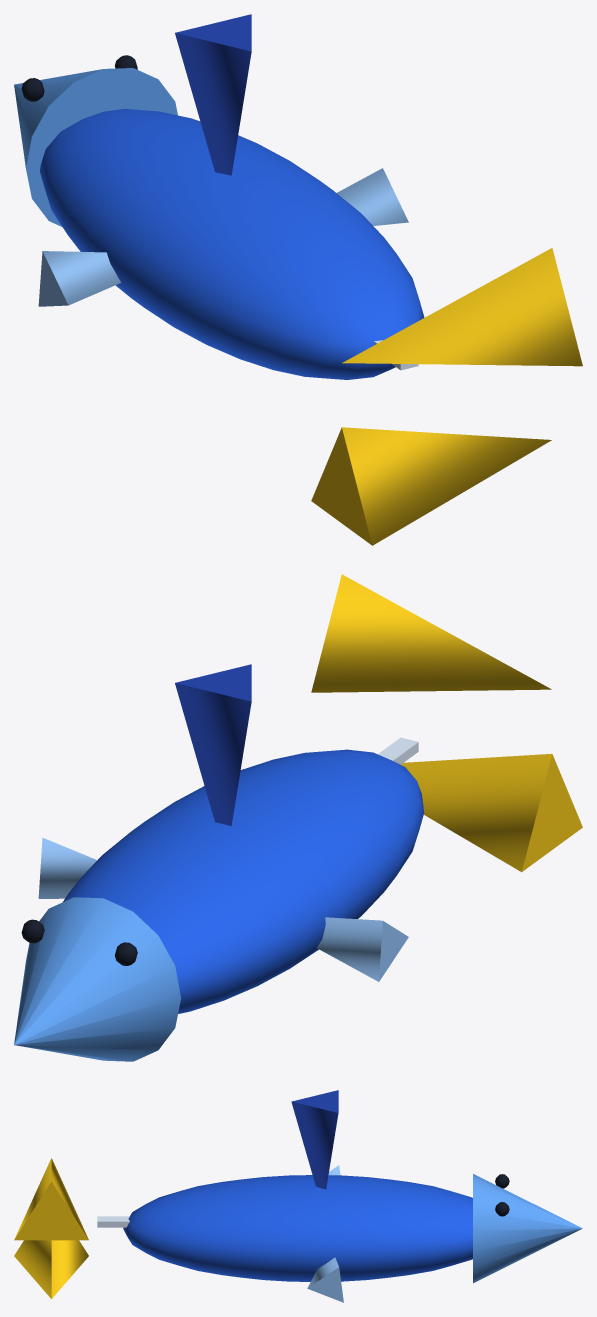
The model's file is fish-blue.glb.
3 views of the same model, one above another, from view 1: azimuth 30°, elevation 25°; view 2: azimuth 150°, elevation 25°; view 3: azimuth 270°, elevation 25° (orthographic). The views are drawn at different scales.
Size of the model in its own units: 0.658 by 0.5598 by 1.55.
